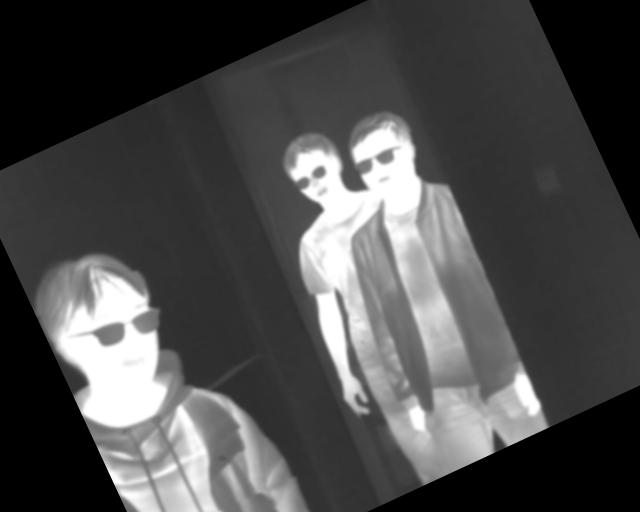face: (20, 232, 182, 413), (338, 101, 432, 207), (274, 123, 356, 215)
